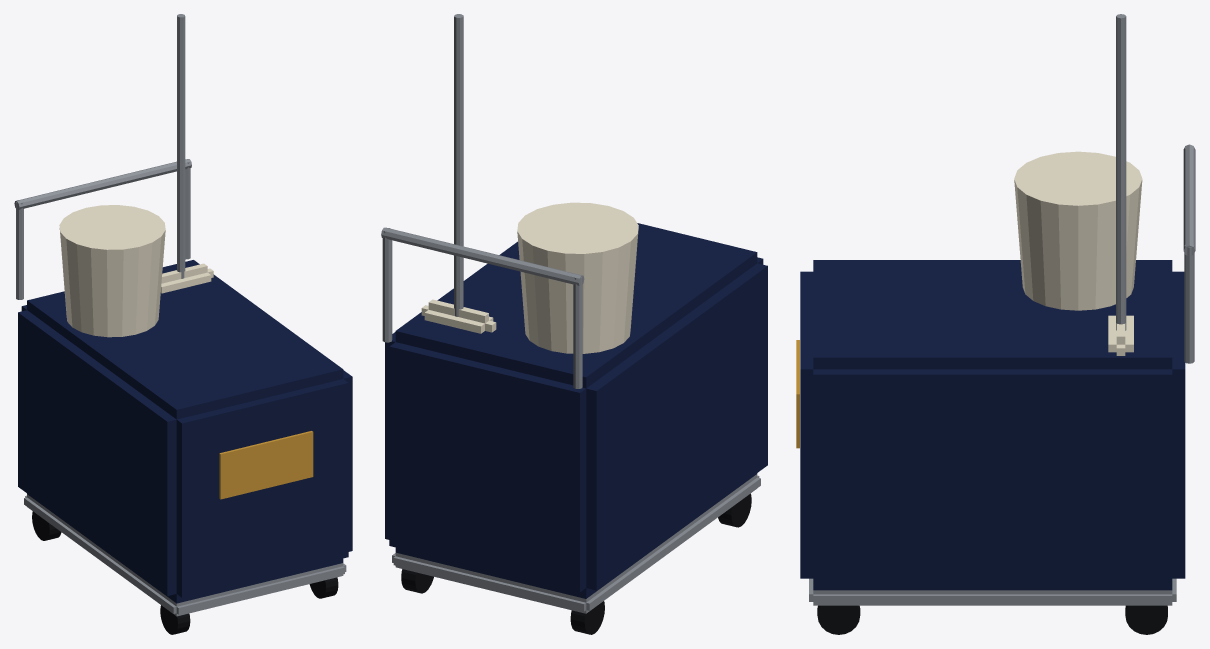
The model's file is cleancart.glb.
3 views of the same model, side by side, from view 1: azimuth 30°, elevation 25°; view 2: azimuth 150°, elevation 25°; view 3: azimuth 270°, elevation 25° (orthographic). The views are drawn at different scales.
Visible parts, largest first — view 1: cleancart_navy, cleancart_ivory, cleancart_steel, cleancart_brass, cleancart_dark; view 2: cleancart_navy, cleancart_ivory, cleancart_steel, cleancart_dark; view 3: cleancart_navy, cleancart_ivory, cleancart_steel, cleancart_dark.
Part boxes in pixels (x1,y1,x2,y2): cleancart_navy: [18, 260, 352, 603]; cleancart_ivory: [59, 205, 213, 337]; cleancart_steel: [14, 14, 346, 616]; cleancart_brass: [219, 431, 313, 499]; cleancart_dark: [32, 511, 338, 634]; cleancart_navy: [385, 223, 767, 598]; cleancart_ivory: [421, 202, 638, 353]; cleancart_steel: [381, 14, 760, 613]; cleancart_dark: [401, 493, 751, 634]; cleancart_navy: [800, 260, 1185, 590]; cleancart_ivory: [1014, 151, 1142, 355]; cleancart_steel: [809, 14, 1195, 605]; cleancart_dark: [817, 605, 1167, 634].
Size of the model in its own units: 0.6 by 1.55 by 0.933.
